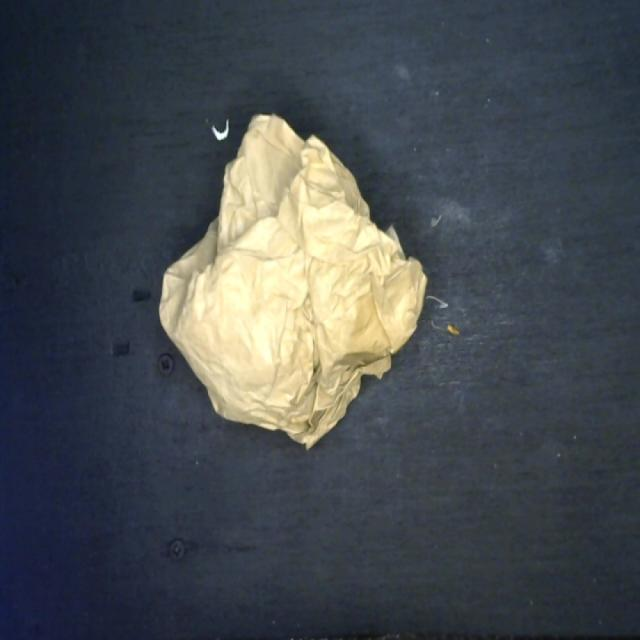biodegradable: (156, 106, 432, 460)
